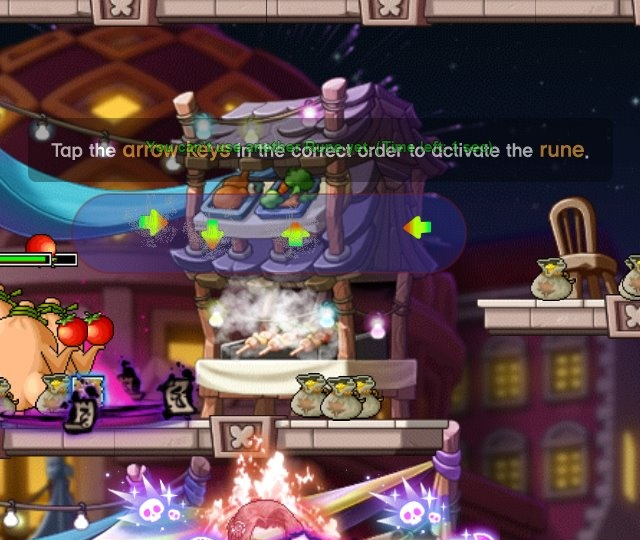down: (196, 215, 228, 253)
left: (400, 213, 436, 243)
right: (136, 206, 172, 241)
up: (279, 218, 314, 251)
